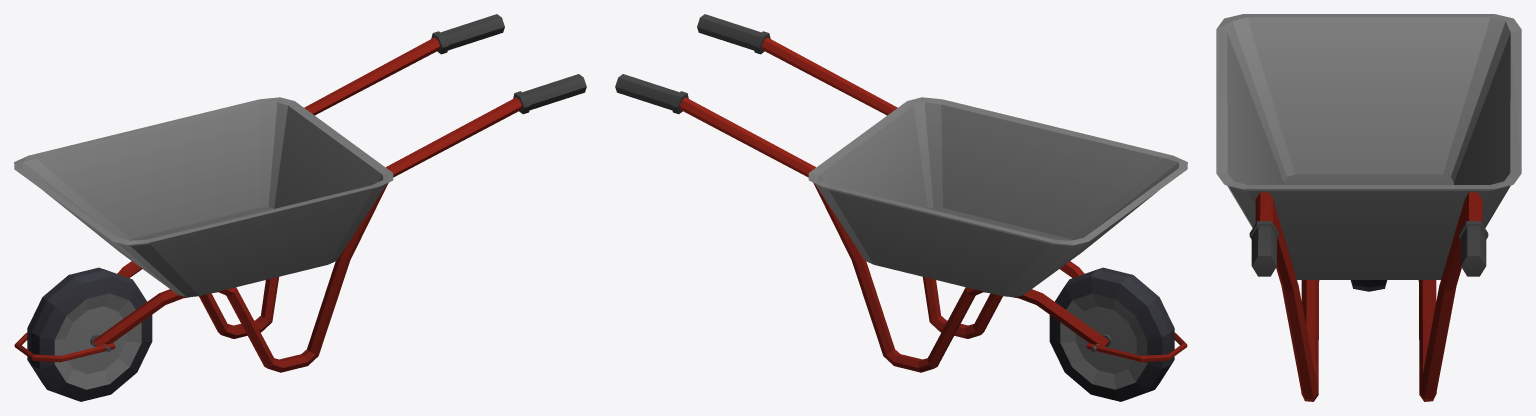
The model's file is Tool_Wheelbarrow_02.obj.
3 views of the same model, side by side, from view 1: azimuth 30°, elevation 25°; view 2: azimuth 150°, elevation 25°; view 3: azimuth 270°, elevation 25° (orthographic). The views are drawn at different scales.
Visible parts, largest first — view 1: Tool_Wheelbarrow_02, Tool_Wheelbarrow_Wheel_02; view 2: Tool_Wheelbarrow_02, Tool_Wheelbarrow_Wheel_02; view 3: Tool_Wheelbarrow_02, Tool_Wheelbarrow_Wheel_02.
Part boxes in pixels (x1,y1,x2,y2): Tool_Wheelbarrow_02: (14, 14, 586, 372); Tool_Wheelbarrow_Wheel_02: (27, 267, 152, 401); Tool_Wheelbarrow_02: (615, 14, 1187, 372); Tool_Wheelbarrow_Wheel_02: (1049, 267, 1174, 401); Tool_Wheelbarrow_02: (1216, 14, 1521, 401); Tool_Wheelbarrow_Wheel_02: (1350, 280, 1387, 291).
Size of the model in its own units: 1.73 by 0.7654 by 0.6903.
1 material, 1 textured.
